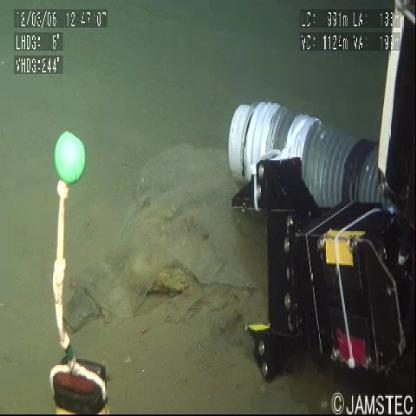Rác: (60, 147, 270, 335)
